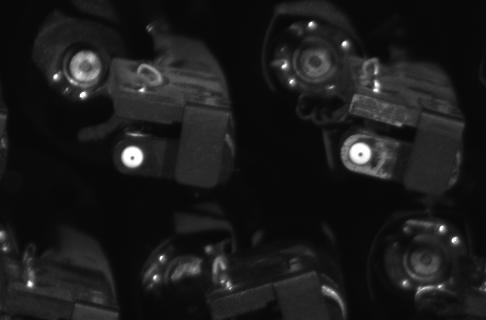fiber: (114, 142, 152, 173), (343, 138, 377, 172)
